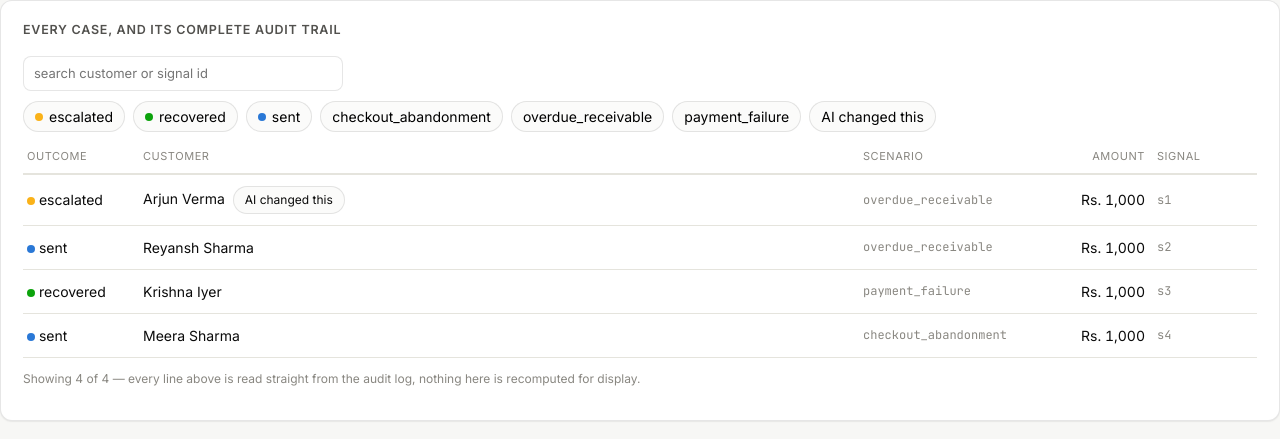
it: CaseList › shows a no-match message when filters exclude every case
Type "nobody-has-this-name" into the search field named "search cases". click: coordinates (183, 74)
box: [23,56,343,91]
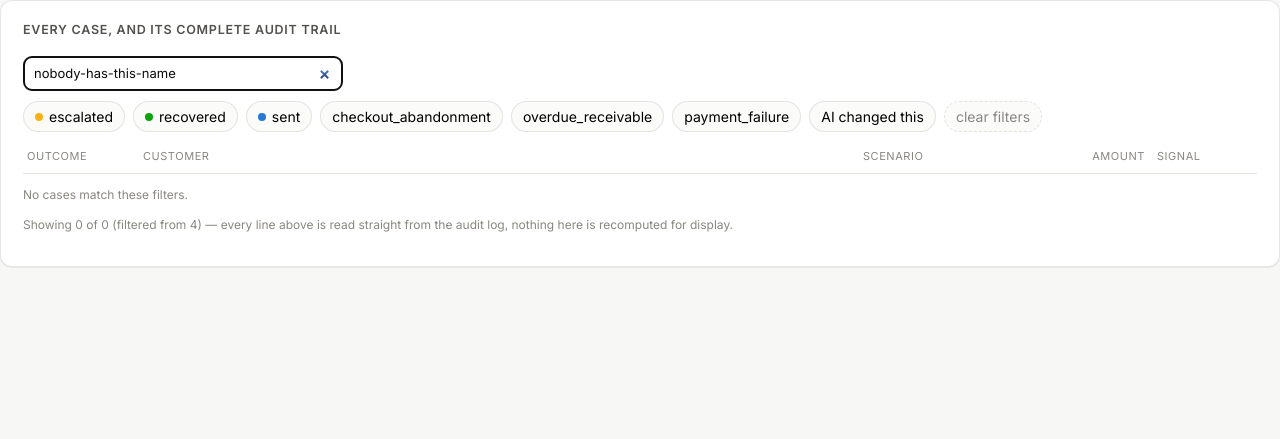
Expected: the text "No cases match these filters." is shown, [23,187,188,202]
